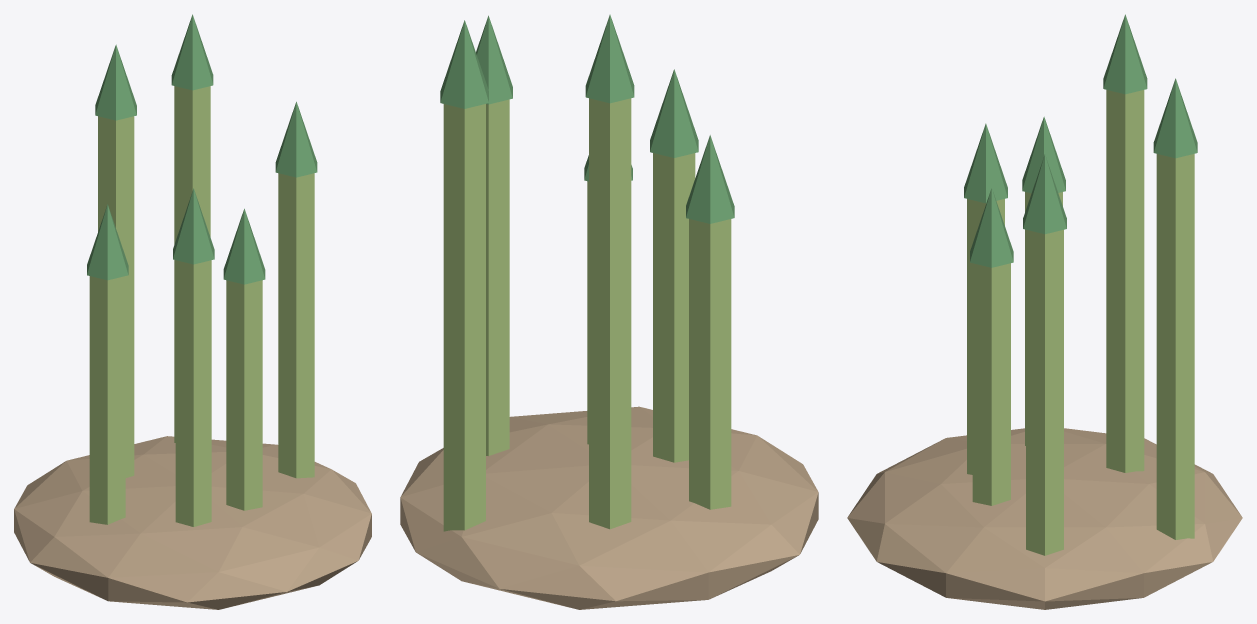
File: esparrago.glb
3 renders of one model, left to right at view 1: azimuth 30°, elevation 25°; view 2: azimuth 150°, elevation 25°; view 3: azimuth 270°, elevation 25°, orthographic. The views are drawn at different scales.
Visible parts, largest first — view 1: verde_claro, tierra, verde_osc; view 2: verde_claro, tierra, verde_osc; view 3: verde_claro, tierra, verde_osc.
Part boxes in pixels (x1=…): verde_claro: x1=89, y1=86, x2=314, y2=526; tierra: x1=14, y1=436, x2=371, y2=609; verde_osc: x1=87, y1=14, x2=317, y2=284; verde_claro: x1=443, y1=98, x2=731, y2=531; tierra: x1=400, y1=406, x2=818, y2=609; verde_osc: x1=440, y1=14, x2=734, y2=223; verde_claro: x1=967, y1=90, x2=1194, y2=555; tierra: x1=847, y1=428, x2=1242, y2=609; verde_osc: x1=964, y1=14, x2=1197, y2=267.
Size of the model in its own units: 0.18 by 0.2629 by 0.18.
